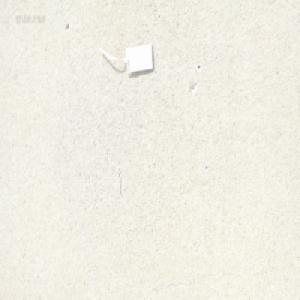LuggageTag: (100, 39, 155, 75)
